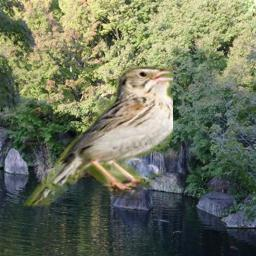Sparrow: (22, 66, 173, 208)
